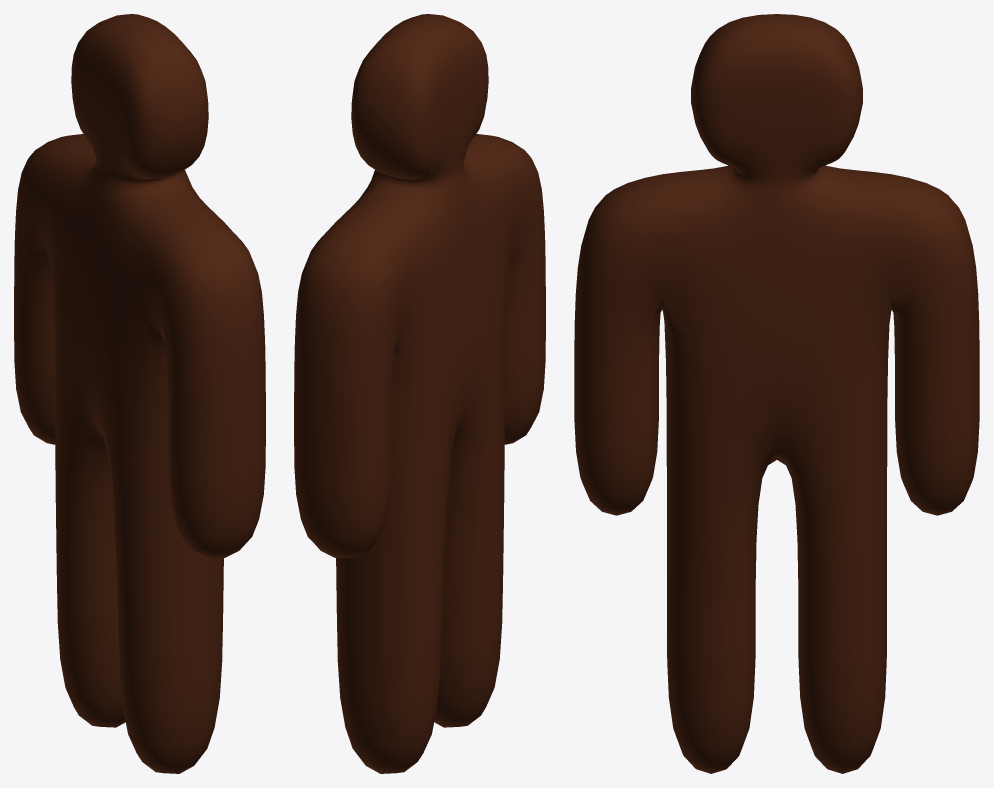
The model's file is kukla_kolor.fbx.
The picture shows the model from 3 angles, left to right: view 1: azimuth 30°, elevation 25°; view 2: azimuth 150°, elevation 25°; view 3: azimuth 270°, elevation 25°; orthographic projection. The views are drawn at different scales.
Visible parts, largest first — view 1: Kukla; view 2: Kukla; view 3: Kukla.
Part boxes in pixels (x1,y1,x2,y2): Kukla: (14,14,265,773); Kukla: (294,14,545,773); Kukla: (574,14,979,773).
Bounding box in the file's own units: 47.54 × 315 × 154.
